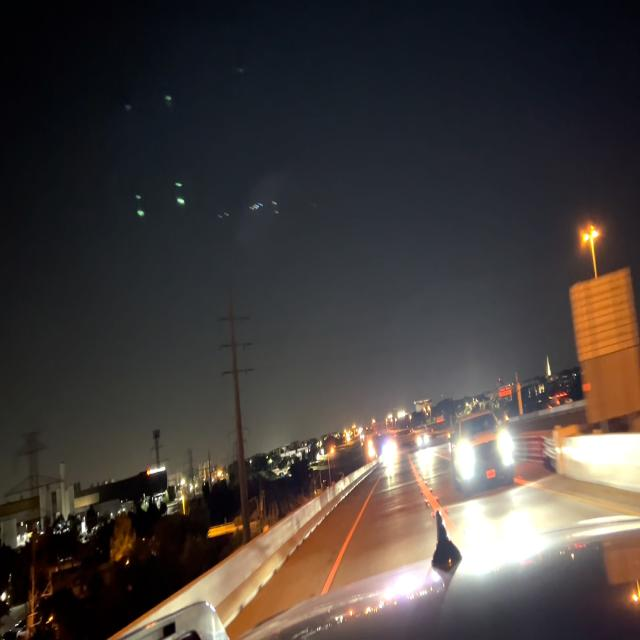back-of-sign: (565, 266, 640, 429)
